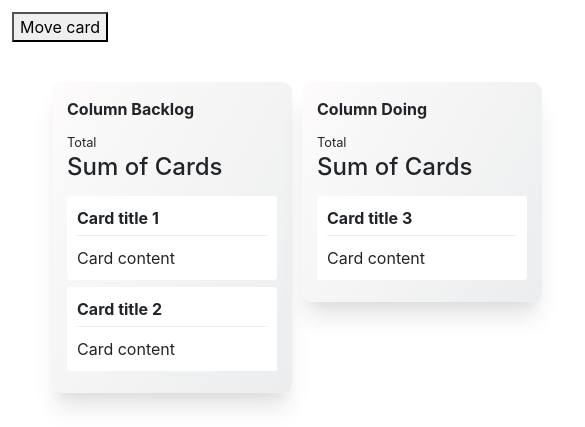
<Board /> › when the board is controlled › about the column renaming › when the component use the default header template › when the component receives the "allowRenameColumn" prop › when the user renames a column › does not rename the column
The image size is (585, 427).
Click the text "Column Backlog". click: x=131, y=109
box: [67,97,194,121]
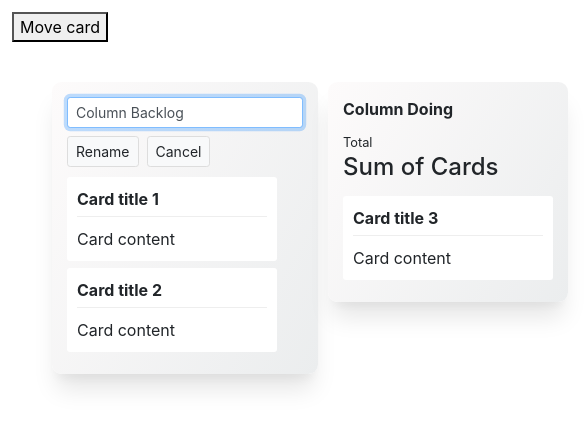
Replace the text in the field with "New title". click: x=185, y=112
box: [67,97,303,128]
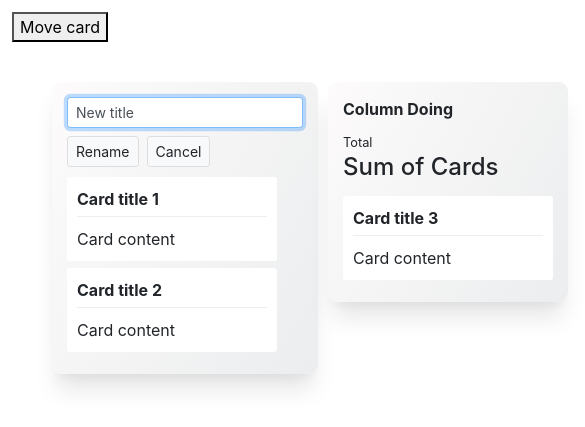
Click the button "Rename". click: x=103, y=152
box: [67,136,138,167]
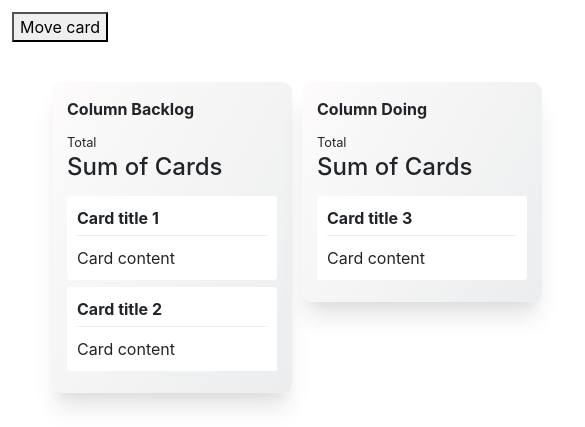
expect the text "New title" is not shown: met
expect the text "Column Backlog" is shown: met, box [67,97,194,121]
